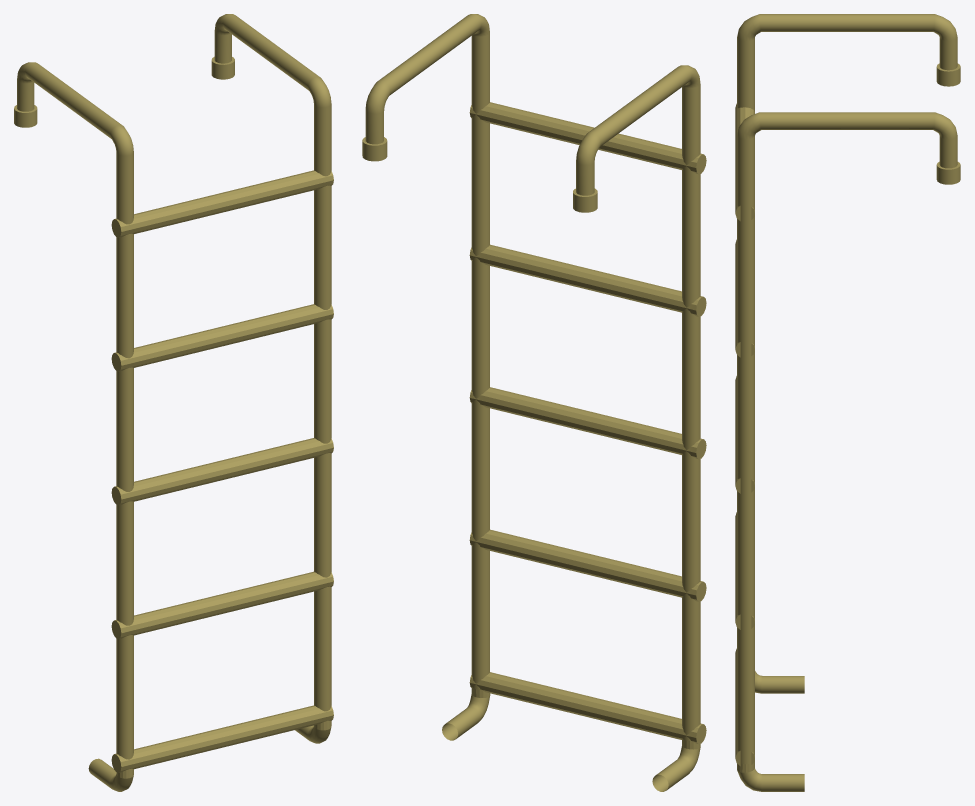
Rendered from Ladder_Metal.fbx.
3 renders of one model, left to right at view 1: azimuth 30°, elevation 25°; view 2: azimuth 150°, elevation 25°; view 3: azimuth 270°, elevation 25°, orthographic. The views are drawn at different scales.
Parts seen in each view (by area): view 1: Ladder_Metal; view 2: Ladder_Metal; view 3: Ladder_Metal.
Boxes of the visible parts, x1,y1,x2,y2 form: Ladder_Metal: (14,14,333,791); Ladder_Metal: (362,14,706,791); Ladder_Metal: (735,14,960,791).
Size of the model in its own units: 67.39 by 197 by 59.23.
